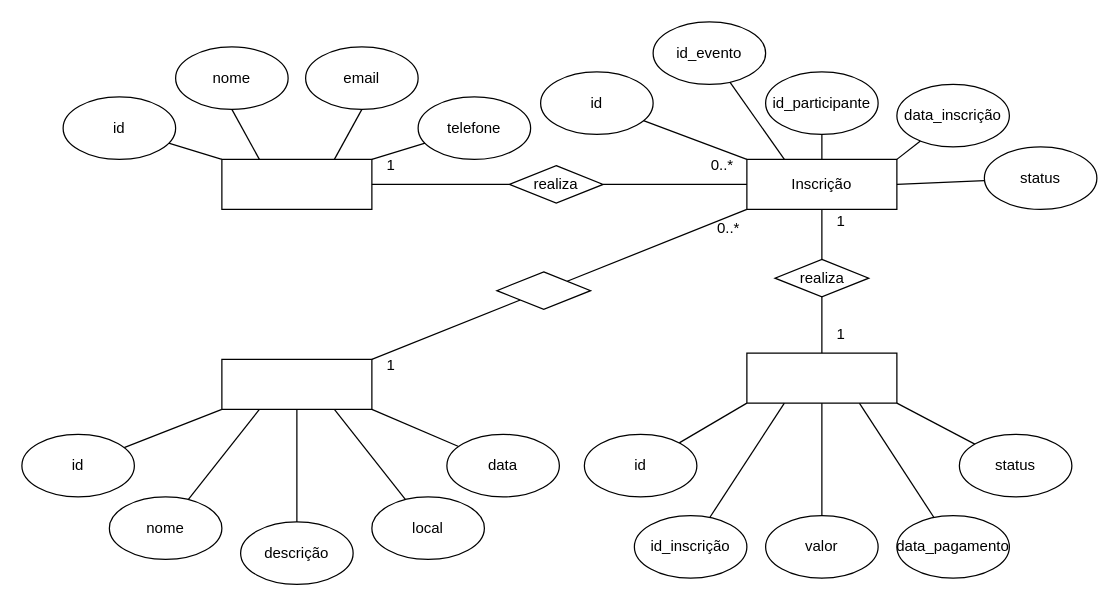
This 1119x608 diagram has some shape labels left out. Here are the shapes that lost their labels. From the top down, the centre of each, then its label:
At point 296,183: "Participante".
At point 543,290: "possui".
At point 296,383: "Evento".
At point 821,377: "Pagamento".
